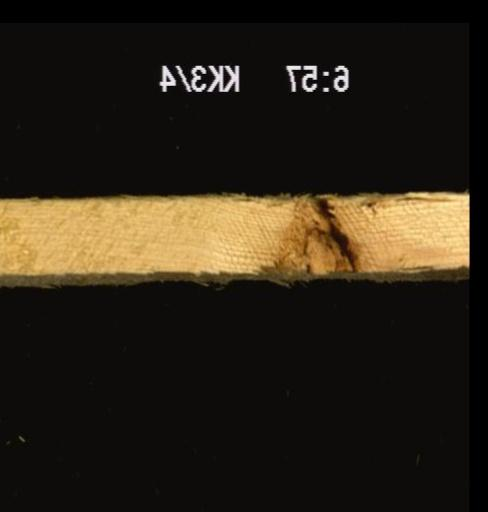edge_knot: (264, 196, 358, 276)
